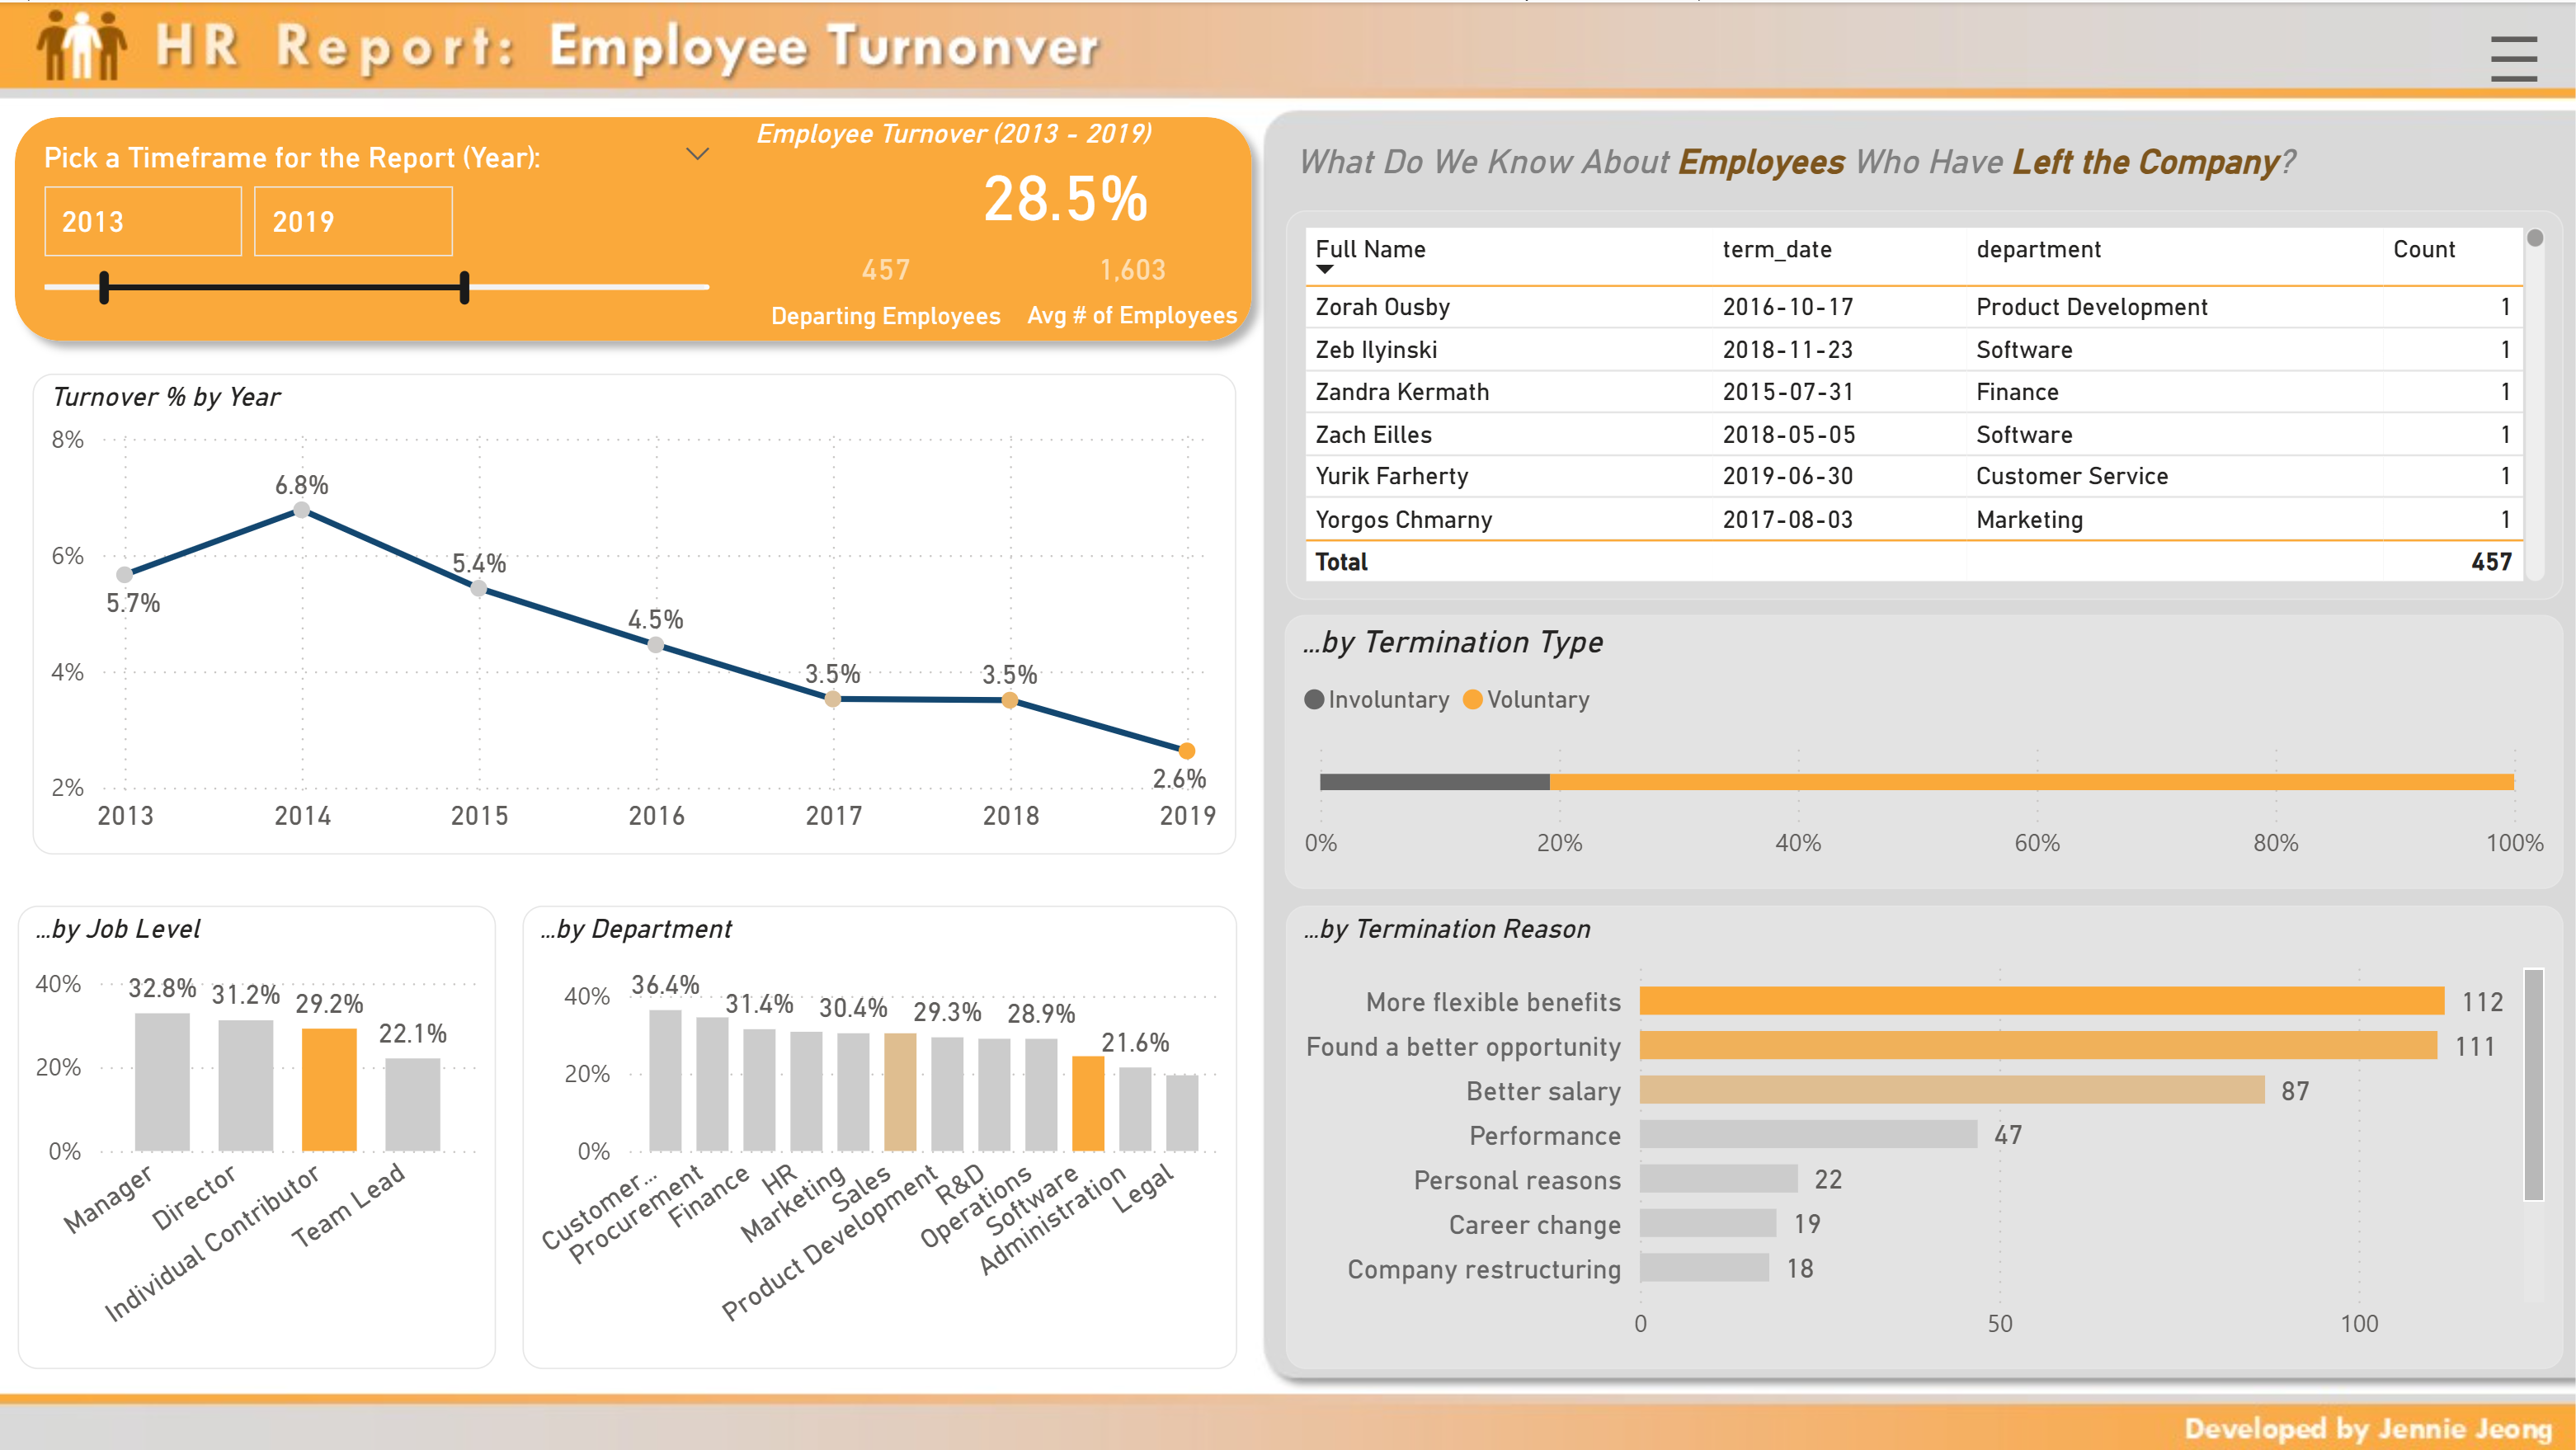

What the dashboard file says about the page in this screenshot:
{"tool":"powerbi","page":{"name":"Turnonver","canvas":[1280,720],"ordinal":3},"visuals":[{"type":"shape","box":[0,47.9,631.8,129],"z":0},{"type":"card","title":"Employee Turnover (2013 - 2019)","fields":{"Values":["_Measures.Turnover %"]},"box":[371.8,57.9,317.2,58.5],"z":1000},{"type":"card","fields":{"Values":["_Measures.Departing Employees"]},"box":[371.8,111.3,139,58.5],"z":2000},{"type":"card","fields":{"Values":["_Measures.Avg # of Employees"]},"box":[487.5,103.3,151.6,73.8],"z":3000},{"type":"clusteredColumnChart","title":"...by Job Level","fields":{"Category":["job_level_dim.job_level"],"Y":["_Measures.Turnover %"]},"box":[10.6,448.2,237.4,230.1],"z":4000},{"type":"clusteredColumnChart","title":"...by Department","fields":{"Category":["department_dim.department"],"Y":["_Measures.Turnover %"]},"box":[260.7,448.2,354.5,230.1],"z":5000},{"type":"lineChart","fields":{"Category":["Date.Year"],"Y":["_Measures.Turnover %"]},"box":[18,184.2,597.2,238.8],"z":6000},{"type":"tableEx","fields":{"Values":["people_fact.Full Name","people_fact.term_date","department_dim.department","_Measures.Departing Employees"]},"box":[639.8,103.1,633.8,193.5],"z":7000},{"type":"hundredPercentStackedBarChart","title":"...by Termination Type","fields":{"Y":["_Measures.Departing Employees"],"Series":["term_dim.term_type"]},"box":[639.1,303.9,634.5,135.7],"z":8000},{"type":"clusteredBarChart","title":"...by Termination Reason","fields":{"Category":["term_dim.term_reason"],"Y":["_Measures.Departing Employees"]},"box":[639.8,448.2,633.8,230.1],"z":9000},{"type":"slicer","fields":{"Values":["Date.Year"]},"box":[10.6,63.2,356.5,86.5],"z":10000},{"type":"textbox","box":[639.8,63.2,633.8,35.2],"z":11000},{"type":"actionButton","box":[1218.6,0,61.4,51.6],"z":12000}]}

Visuals, with their boxes in screenshot pixels (x1, y1, x2, y2), scaled from the page's 1280x720 canvas onto the 2576x1450 screenshot:
shape: l=0, t=97, r=1271, b=356
"Employee Turnover (2013 - 2019)" card: l=748, t=116, r=1387, b=234
card - _Measures.Departing Employees: l=748, t=224, r=1028, b=342
card - _Measures.Avg # of Employees: l=981, t=208, r=1286, b=356
"...by Job Level" clusteredColumnChart: l=21, t=902, r=499, b=1366
"...by Department" clusteredColumnChart: l=525, t=902, r=1238, b=1366
lineChart - Date.Year x _Measures.Turnover %: l=36, t=371, r=1238, b=852
tableEx - people_fact.Full Name x people_fact.term_date: l=1288, t=208, r=2563, b=597
"...by Termination Type" hundredPercentStackedBarChart: l=1286, t=612, r=2563, b=885
"...by Termination Reason" clusteredBarChart: l=1288, t=902, r=2563, b=1366
slicer - Date.Year: l=21, t=127, r=739, b=302
textbox: l=1288, t=127, r=2563, b=198
actionButton: l=2452, t=0, r=2575, b=104
